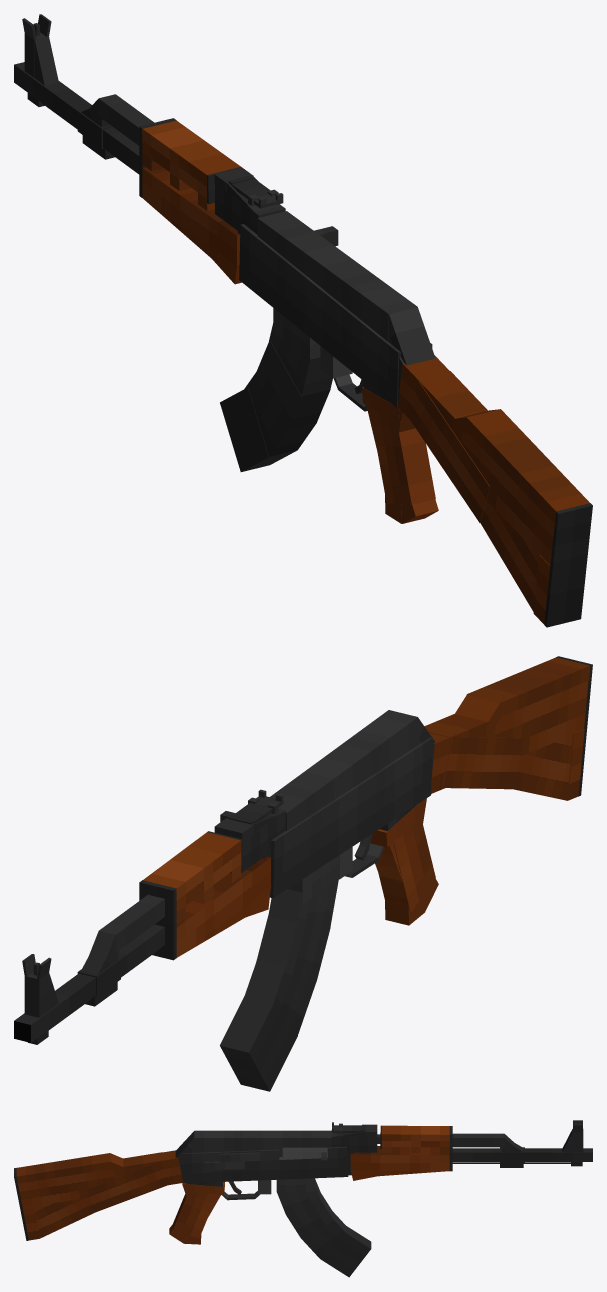
3 renders of one model, top to bottom at view 1: azimuth 30°, elevation 25°; view 2: azimuth 150°, elevation 25°; view 3: azimuth 270°, elevation 25°, orthographic. The views are drawn at different scales.
Visible parts, largest first — view 1: cube_6, cube_8, cube_13, cube_14, cube_17, cube_18, cube_1, cube_11, cube_19, cube_60, cube_35, cube_12 (+9 smaller); view 2: cube_6, cube_8, cube_13, cube_62, cube_18, cube_11, cube_19, cube_35, cube_14, cube_60, cube_1, cube_12 (+17 smaller); view 3: cube_6, cube_8, cube_13, cube_19, cube_11, cube_18, cube_14, cube_35, cube_12, cube_62, cube_1, cube_60 (+16 smaller).
Boxes of the visible parts, x1,y1,x2,y2 form: cube_6: (239,224,432,407); cube_8: (257,211,417,342); cube_13: (416,371,554,565); cube_14: (465,409,589,523); cube_17: (544,503,592,627); cube_18: (142,120,240,210); cube_1: (369,407,435,504); cube_11: (409,382,489,522); cube_19: (142,167,240,265); cube_60: (255,340,330,430); cube_35: (14,62,139,173); cube_12: (480,500,539,611); cube_6: (269,737,432,898); cube_8: (270,710,417,830); cube_13: (424,681,588,756); cube_62: (220,996,297,1091); cube_18: (143,832,241,923); cube_11: (442,737,523,789); cube_19: (176,856,271,957); cube_35: (14,924,164,1042); cube_14: (467,657,590,717); cube_60: (256,916,330,982); cube_1: (378,817,435,912); cube_12: (514,735,572,800); cube_6: (182,1146,348,1183); cube_8: (194,1130,331,1156); cube_13: (18,1152,163,1207); cube_19: (350,1146,449,1170); cube_11: (86,1161,170,1211); cube_18: (382,1125,449,1153); cube_14: (16,1153,111,1183); cube_35: (452,1148,592,1161); cube_12: (34,1197,96,1238); cube_62: (320,1226,371,1277); cube_1: (173,1192,216,1238); cube_60: (286,1193,333,1237).
Bounding box in the file's own units: 0.2113 × 0.7945 × 2.76.
Materials: 1 (1 with a texture image).
